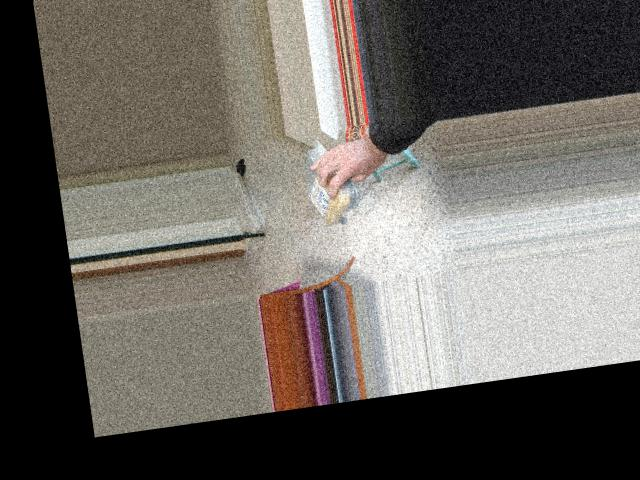cheese: (299, 136, 354, 228)
